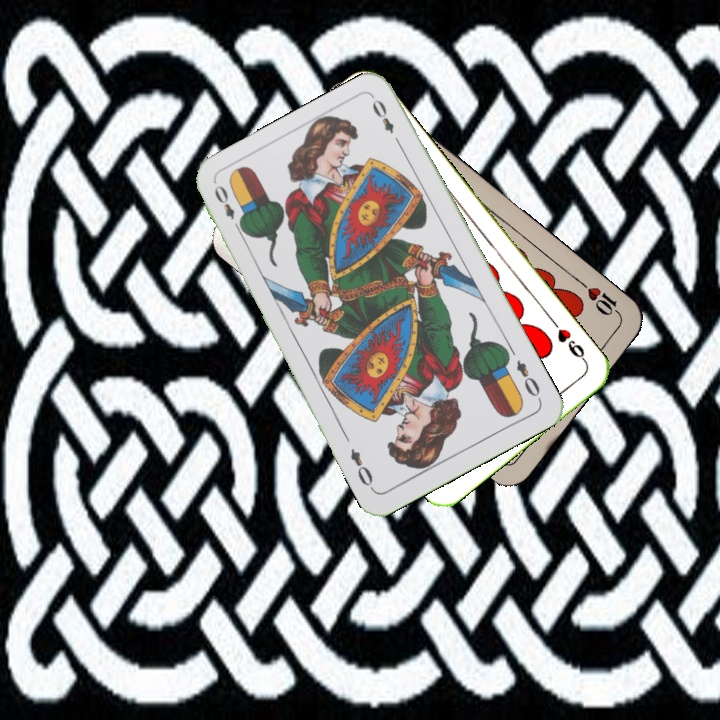EO: (210, 181, 246, 236), (511, 355, 543, 400)
H10: (576, 277, 625, 321)
H9: (548, 316, 590, 366)
